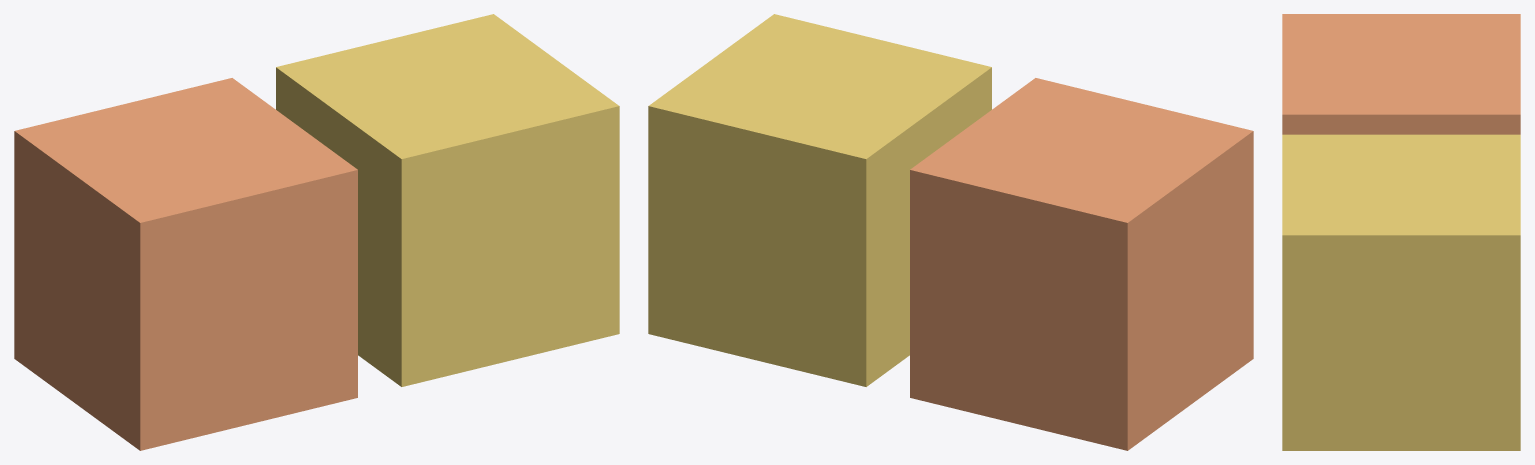
The model's file is handoff-pieces.glb.
The picture shows the model from 3 angles, left to right: view 1: azimuth 30°, elevation 25°; view 2: azimuth 150°, elevation 25°; view 3: azimuth 270°, elevation 25°; orthographic projection. The views are drawn at different scales.
Parts seen in each view (by area): view 1: piece_00, piece_01; view 2: piece_00, piece_01; view 3: piece_01, piece_00.
Part boxes in pixels (x1,y1,x2,y2): piece_00: [14, 78, 357, 450]; piece_01: [276, 14, 619, 386]; piece_00: [910, 78, 1253, 450]; piece_01: [648, 14, 991, 386]; piece_01: [1282, 134, 1520, 450]; piece_00: [1282, 14, 1520, 134].
Bounding box in the file's own units: 0.55 × 0.25 × 0.25.
